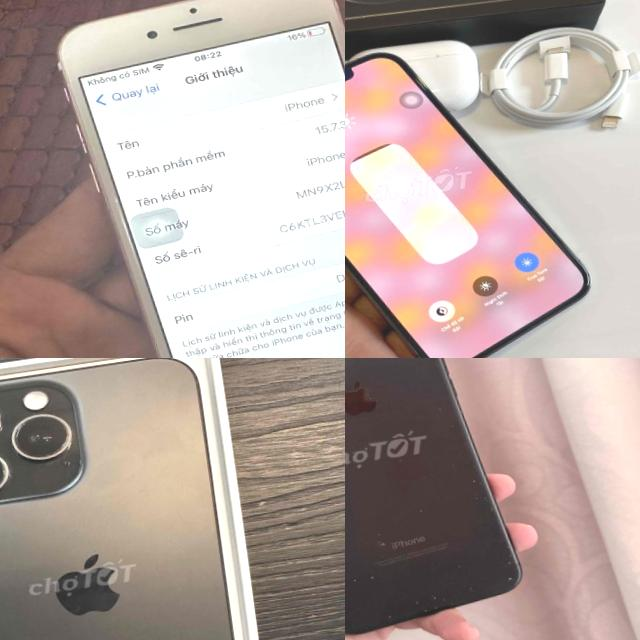gen_12_13: (345, 26, 603, 358)
gen_15: (0, 358, 281, 640)
gen_7_8: (35, 0, 345, 358), (345, 358, 538, 640)
scratch: (464, 466, 524, 590), (379, 585, 478, 623), (345, 522, 394, 564), (434, 399, 462, 433), (345, 569, 376, 588), (409, 500, 429, 518), (448, 560, 461, 570)
